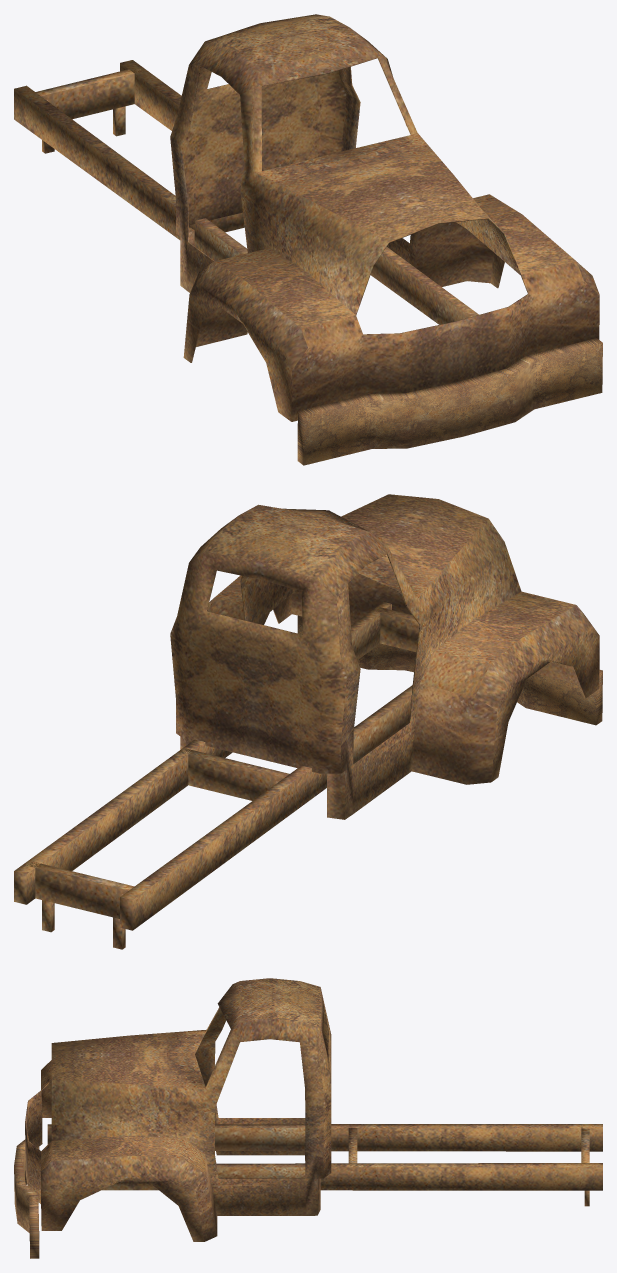
The model's file is old car.fbx.
The picture shows the model from 3 angles, top to bottom: view 1: azimuth 30°, elevation 25°; view 2: azimuth 150°, elevation 25°; view 3: azimuth 270°, elevation 25°; orthographic projection. The views are drawn at different scales.
Parts seen in each view (by area): view 1: truckCabin_rustyMaterial_0; view 2: truckCabin_rustyMaterial_0; view 3: truckCabin_rustyMaterial_0.
Part boxes in pixels (<box>): truckCabin_rustyMaterial_0: <box>14,14,602,465</box>; truckCabin_rustyMaterial_0: <box>14,494,602,949</box>; truckCabin_rustyMaterial_0: <box>14,978,602,1258</box>.
Bounding box in the file's own units: 288 × 247 × 633.
